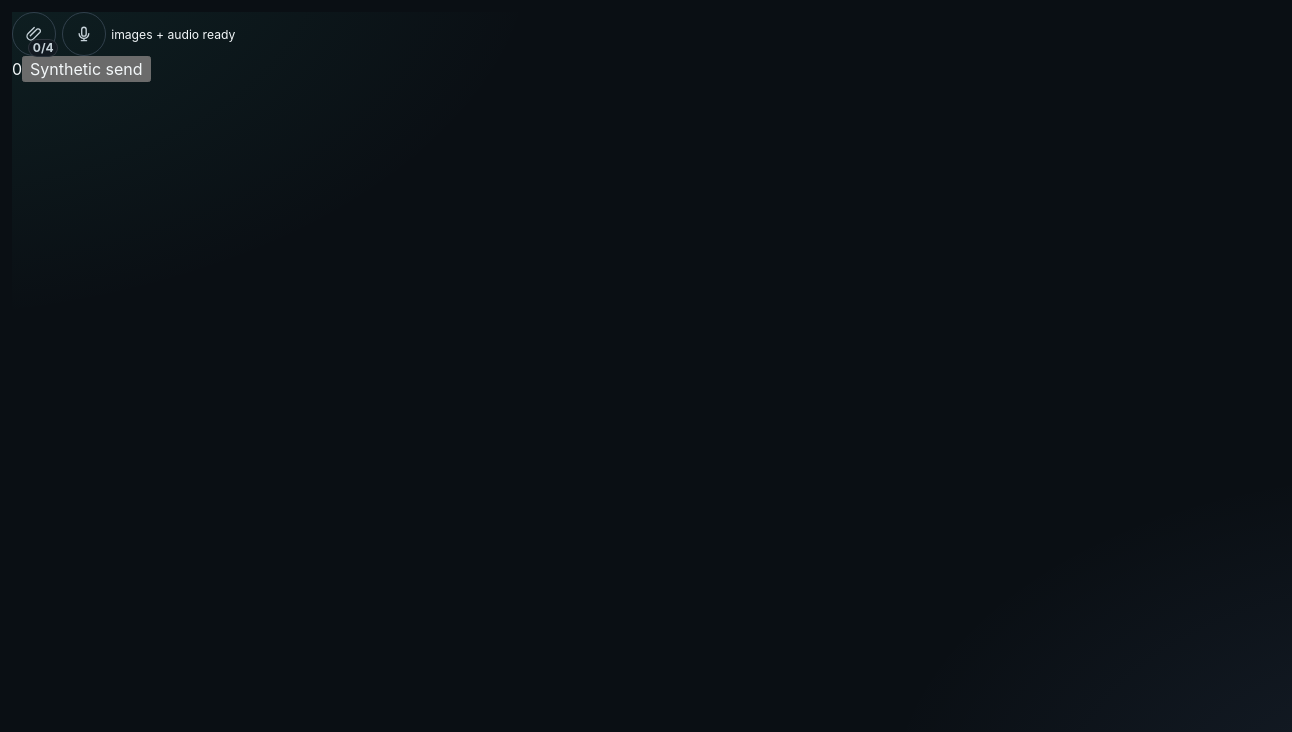
Test: AgentComposerAttachments › keeps primary media controls compact while capability-gating the microphone
The image size is (1292, 732).
Check: the button named "Record audio" is enabled, box [62, 12, 106, 56]
What coordinates should you click on to do the following:
click the button named "Attach"
I would click on:
 (34, 34)
Its box is [12, 12, 56, 56].
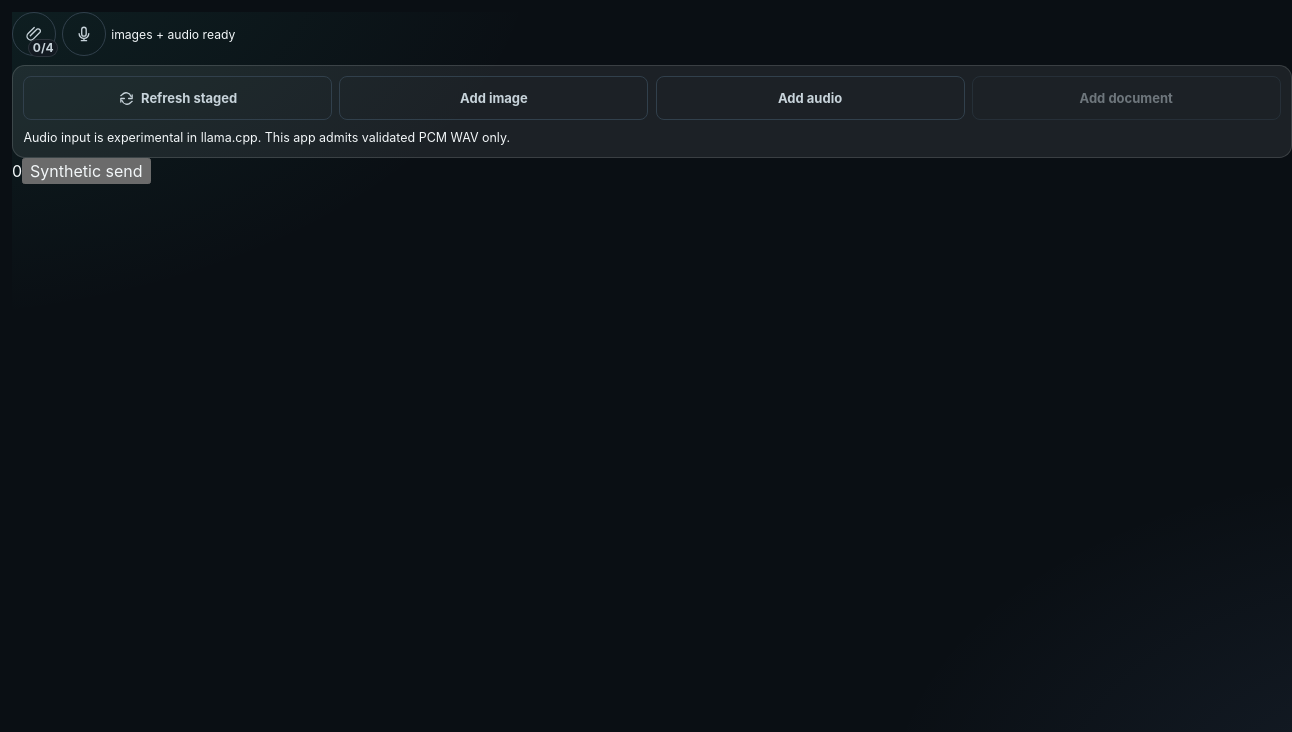
Check: the element named "Attachment sources" is shown, box [12, 65, 1291, 158]
Check: the button "Refresh staged" is shown, box [23, 76, 332, 120]
Check: the button "Add image" is enabled, box [340, 76, 648, 120]
